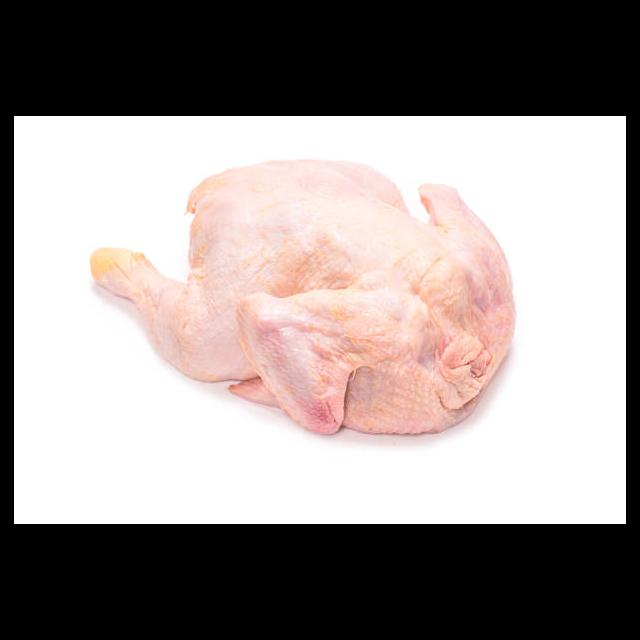chicken: (86, 158, 518, 436)
